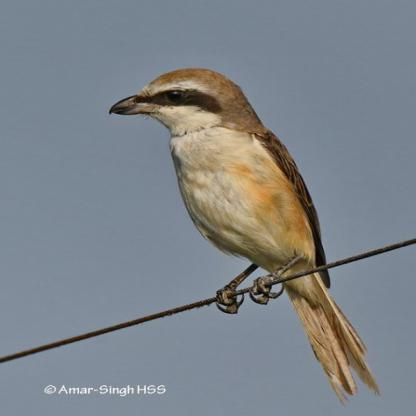Burung: (106, 61, 384, 404)
